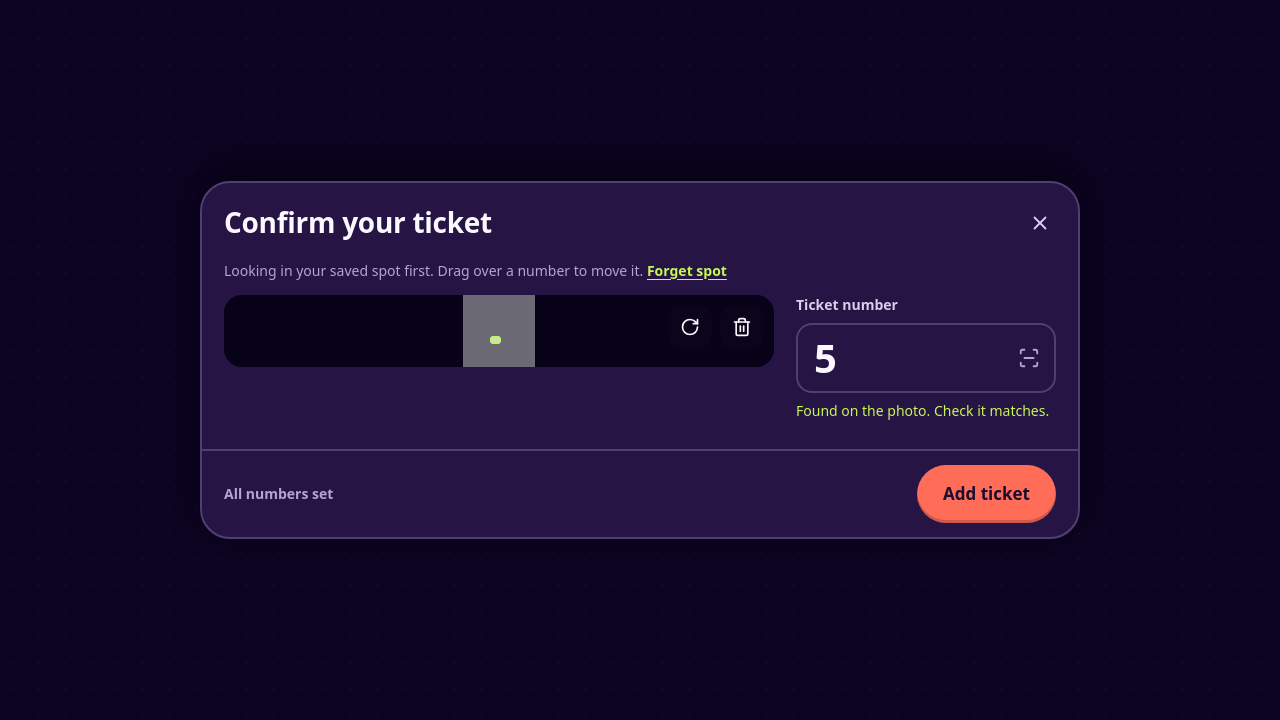
Test: ReviewSheet › forgets the saved spot
Expected: the field labelled "Ticket number" holds "5", [796, 323, 1056, 393]
Click the button "Forget spot": {"x": 687, "y": 271} [647, 260, 727, 281]
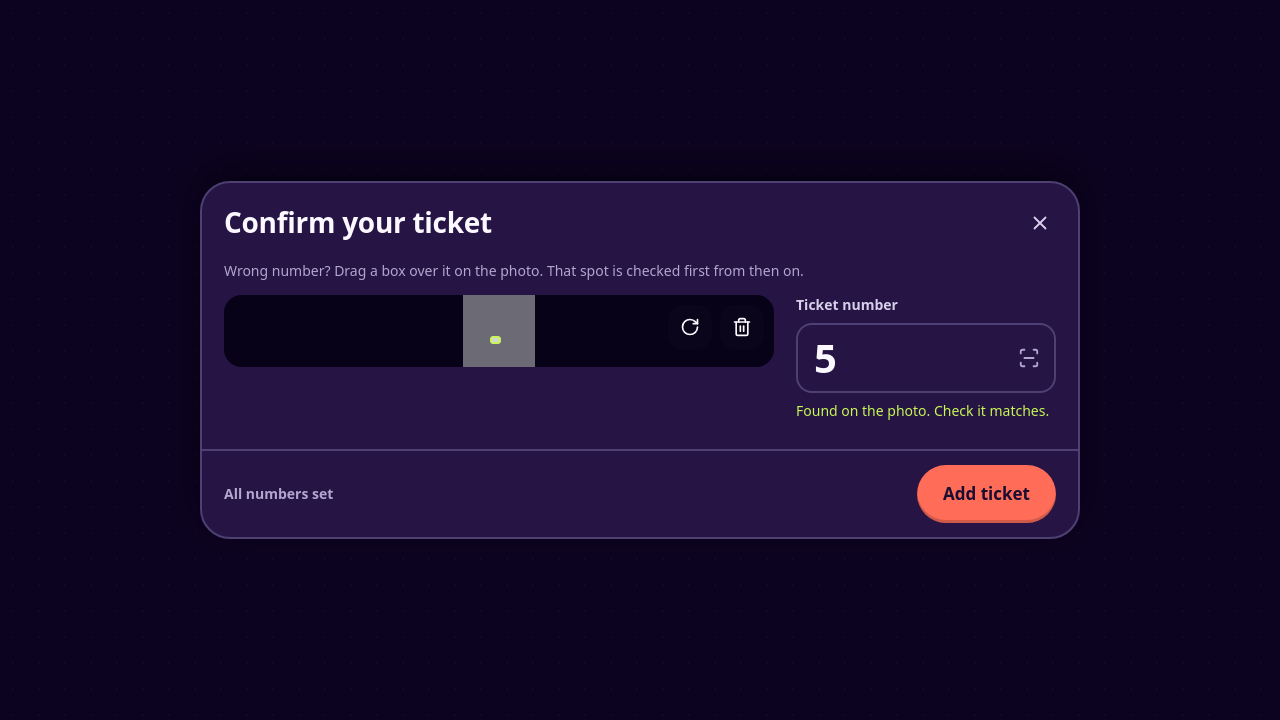
Expected: the text "Drag a box over it on the photo" is shown, [224, 260, 804, 280]
